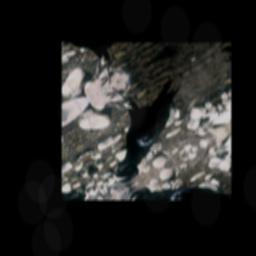Crow: (75, 58, 207, 189)
